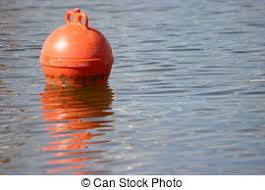buoy: (38, 21, 114, 87)
